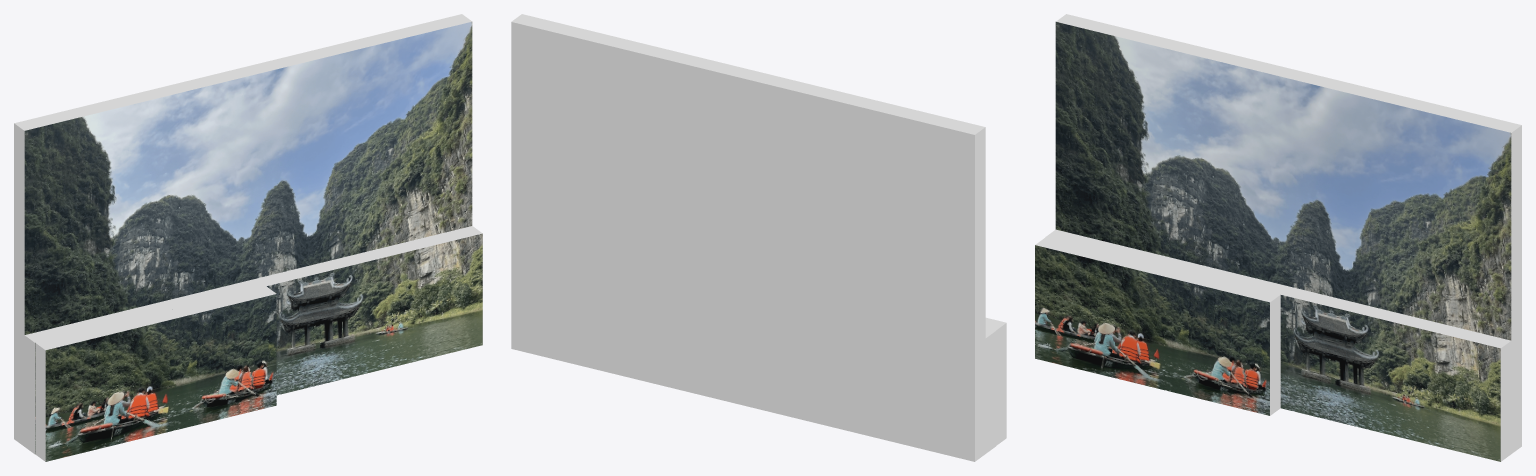
The model's file is trangan.glb.
The picture shows the model from 3 angles, left to right: view 1: azimuth 30°, elevation 25°; view 2: azimuth 150°, elevation 25°; view 3: azimuth 330°, elevation 25°; orthographic projection. The views are drawn at different scales.
Parts seen in each view (by area): view 1: trangan; view 2: trangan; view 3: trangan.
Boxes of the visible parts, x1,y1,x2,y2 form: trangan: (14, 14, 482, 461); trangan: (511, 14, 1006, 461); trangan: (1035, 14, 1521, 461).
Size of the model in its own units: 4.2 by 2.83 by 0.5068.
1 material, 1 textured.
